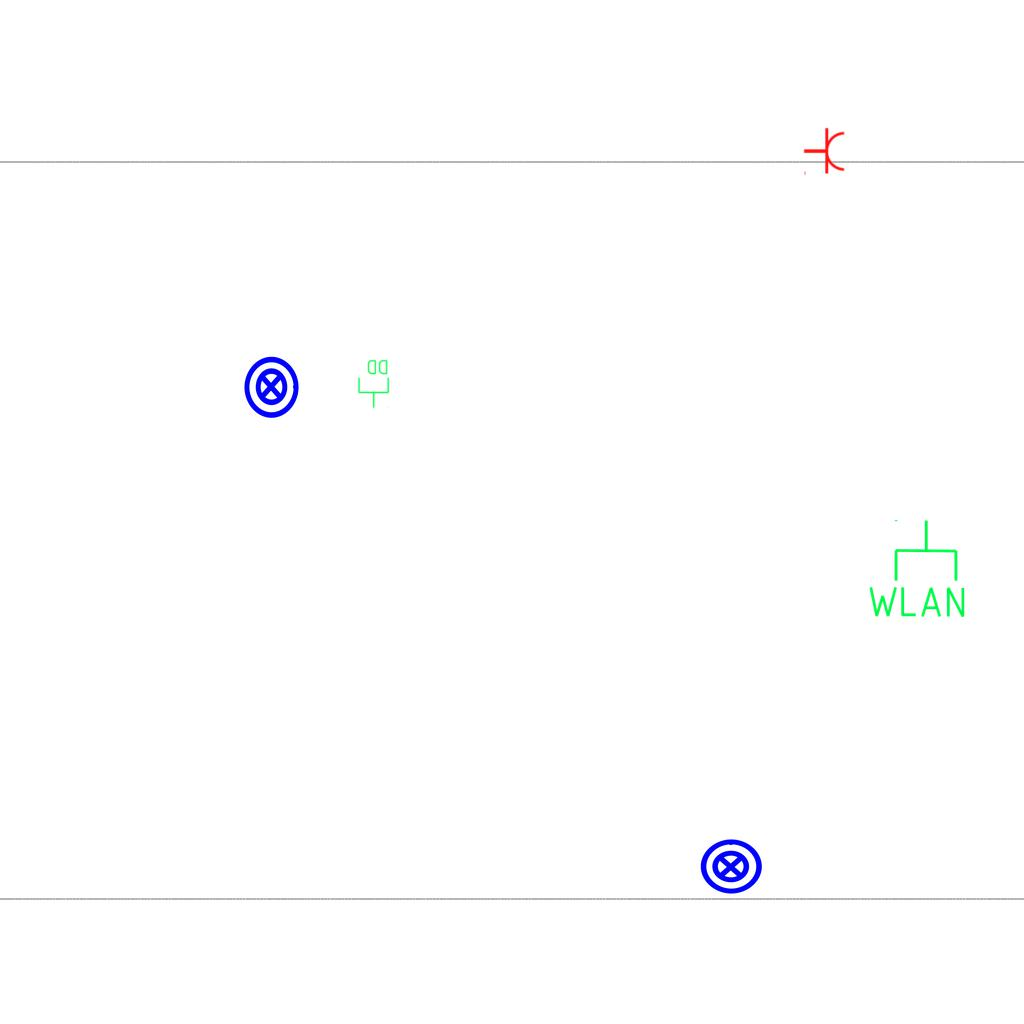Datenanschluss_zweifach: (357, 358, 391, 409)
Schukosteckdose_einfach: (803, 127, 846, 177)
Taster_beleuchtet: (698, 834, 764, 900), (238, 354, 304, 420)
WLAN: (864, 517, 969, 621)
